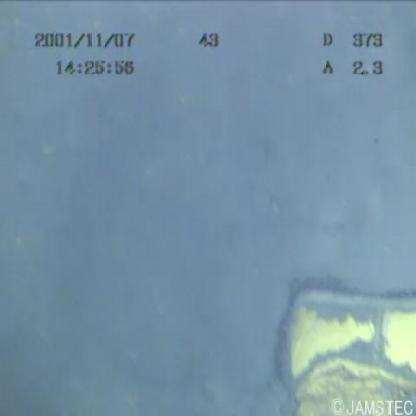Rác: (256, 245, 416, 416)
